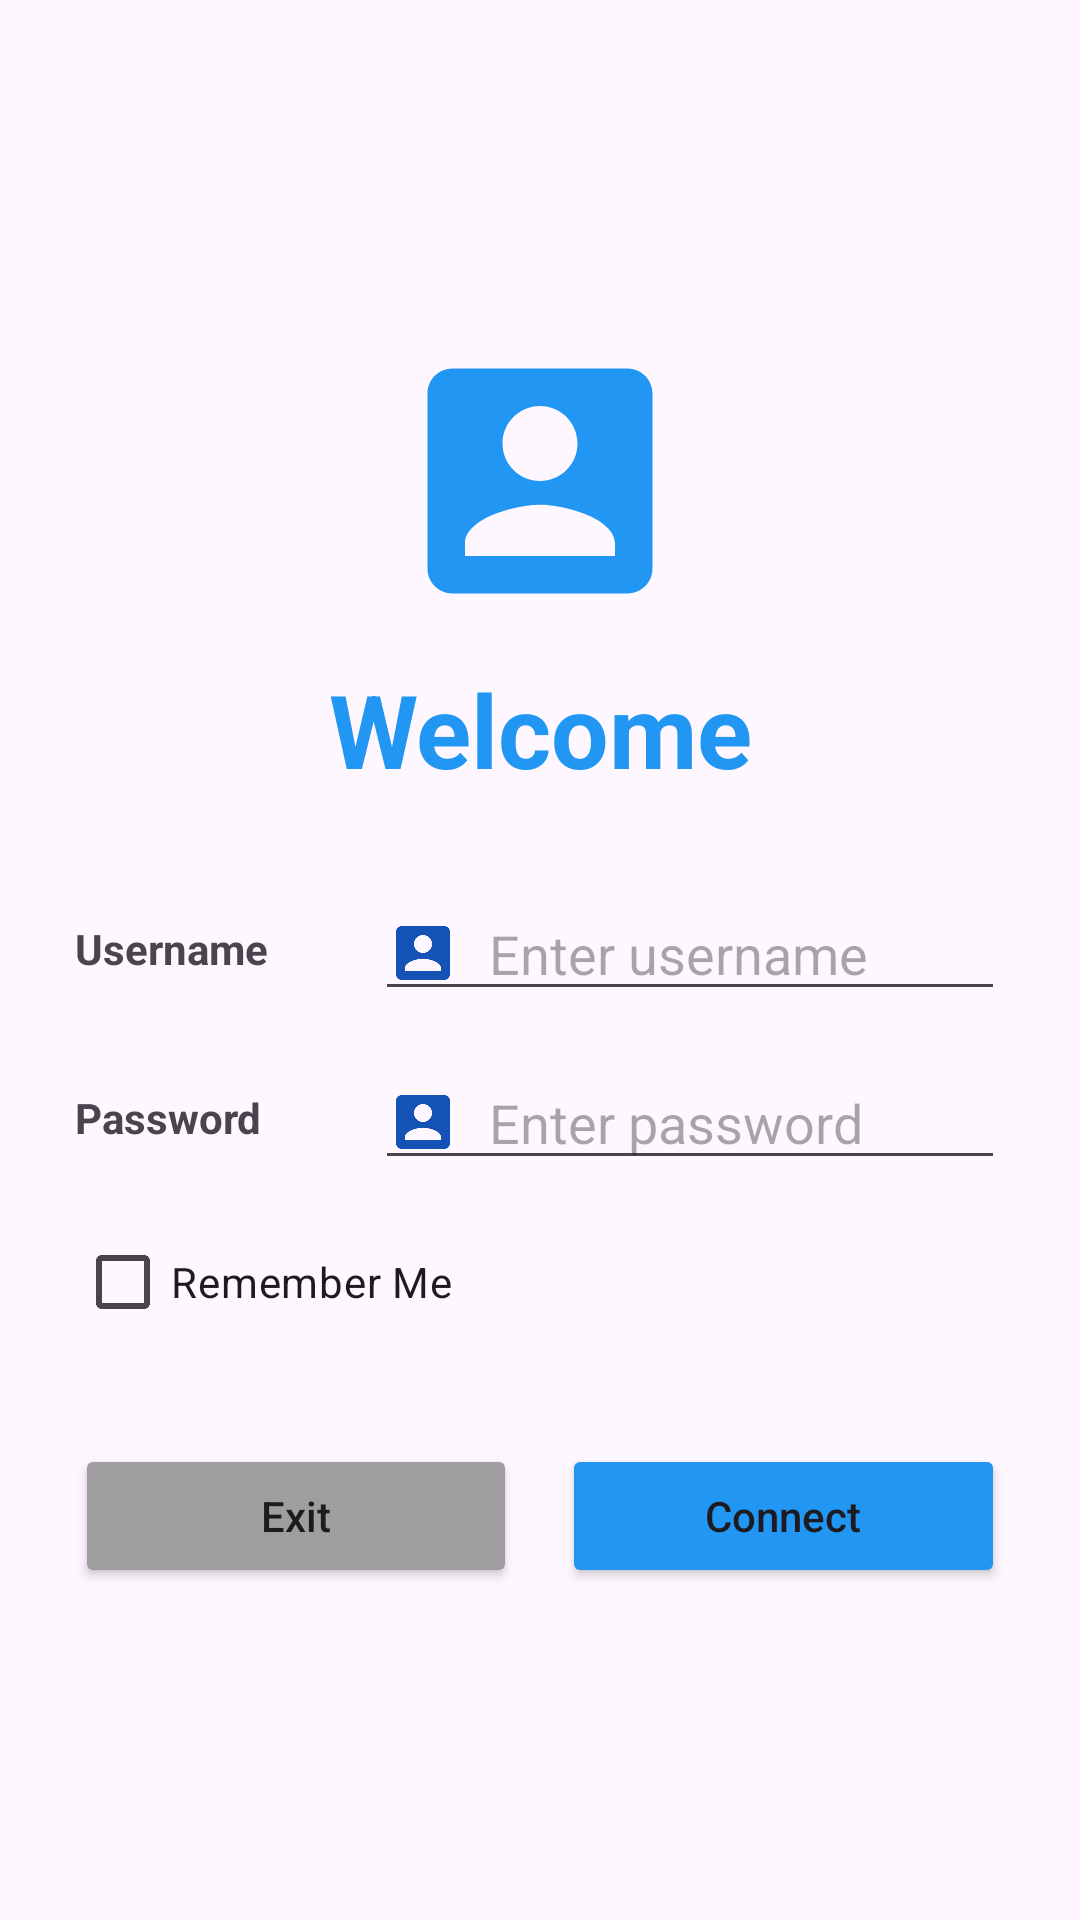

Icons on this 1080*1920 Android screen, each with the point to tap as [x,y]:
account: [540,481]
